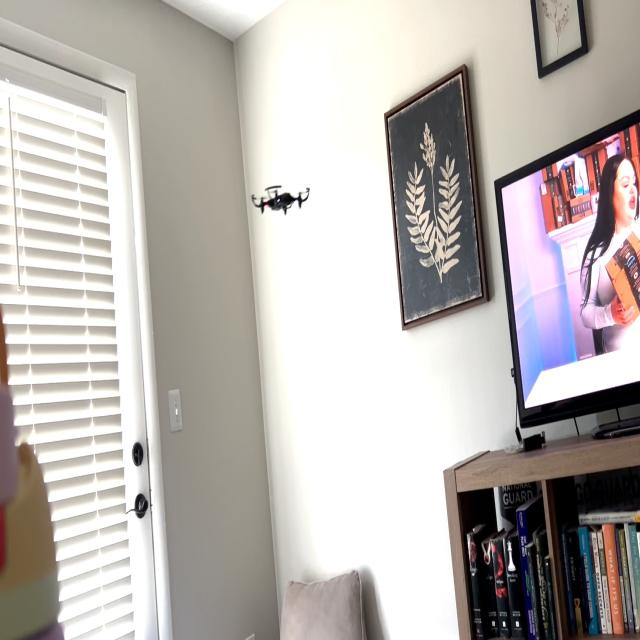drone: (245, 162, 319, 229)
